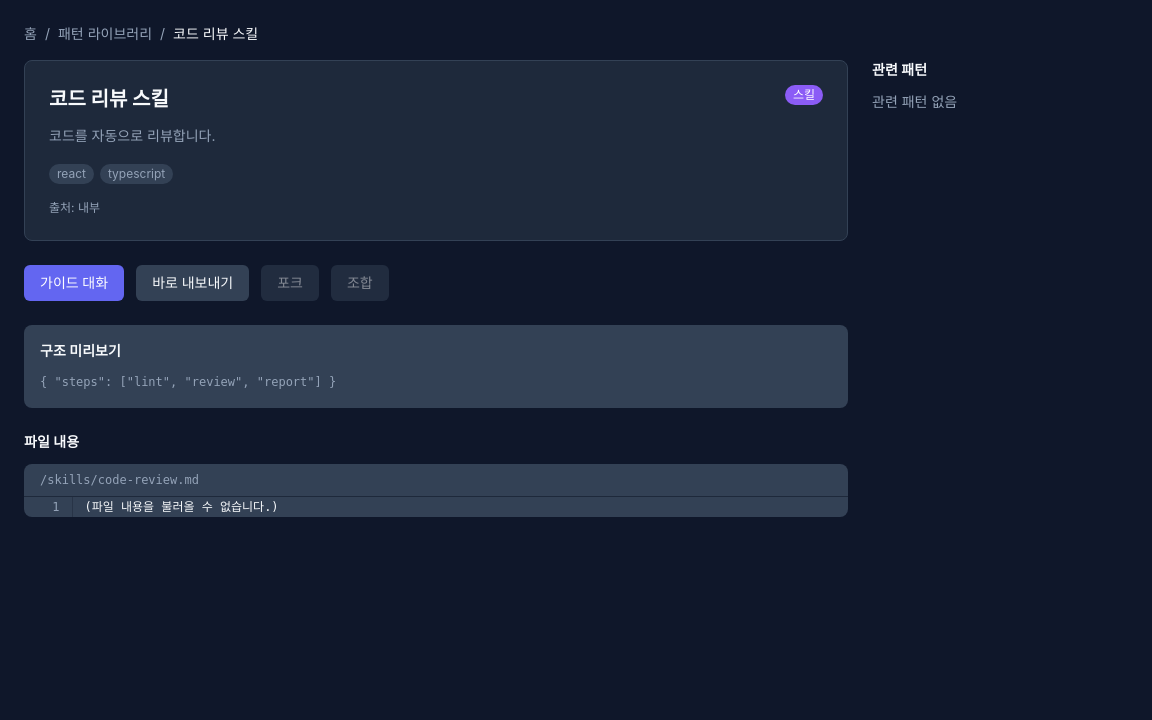
Test: PatternDetail Integration › 시나리오 2: 가이드 대화 시작 › work:create 실패 시 에러 Toast를 표시한다
This screenshot has width=1152, height=720.
Click the button "가이드 대화" at (74, 283), box [24,265,124,301]
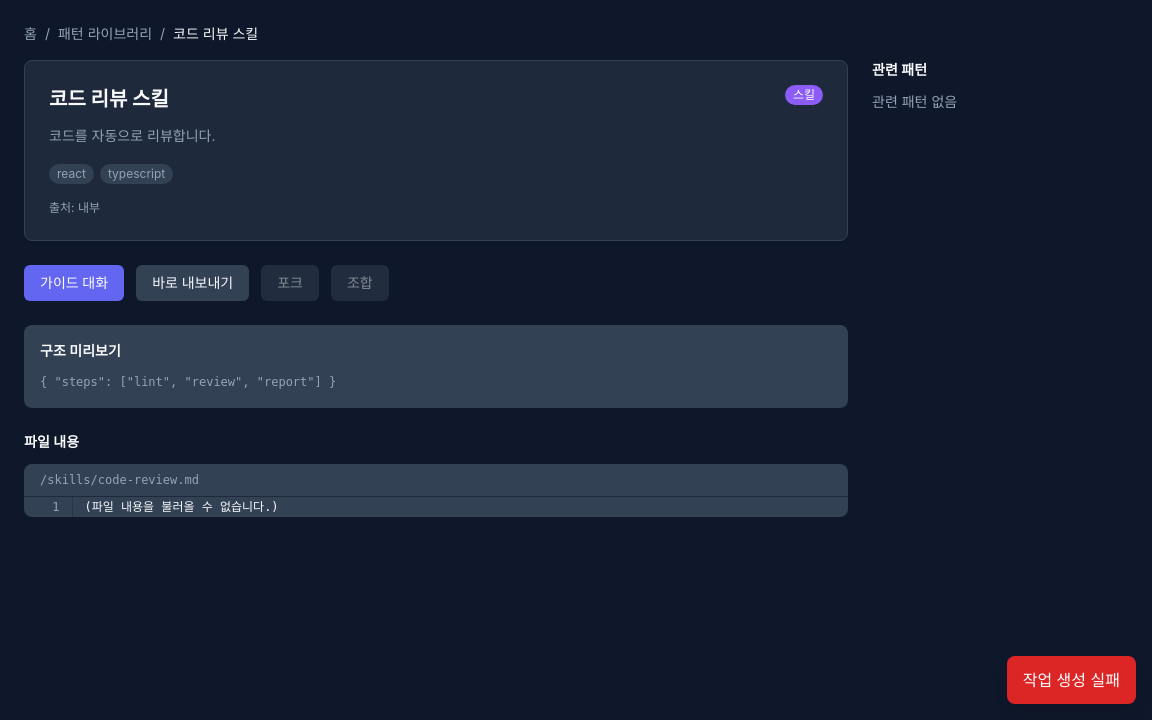
Result: the text "작업 생성 실패" is shown at [1007,656,1136,704]
